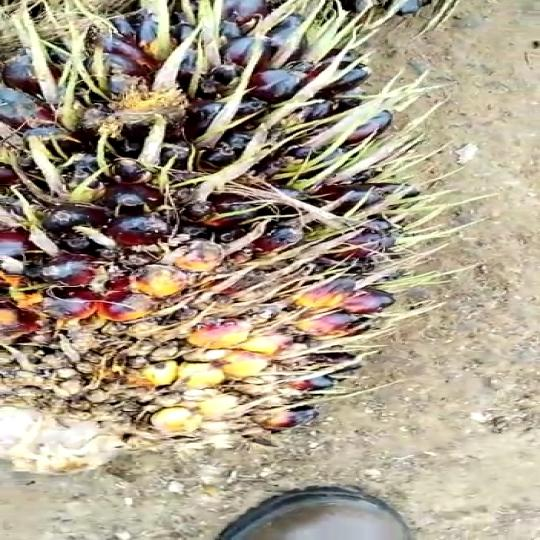mentah: (7, 2, 418, 470)
